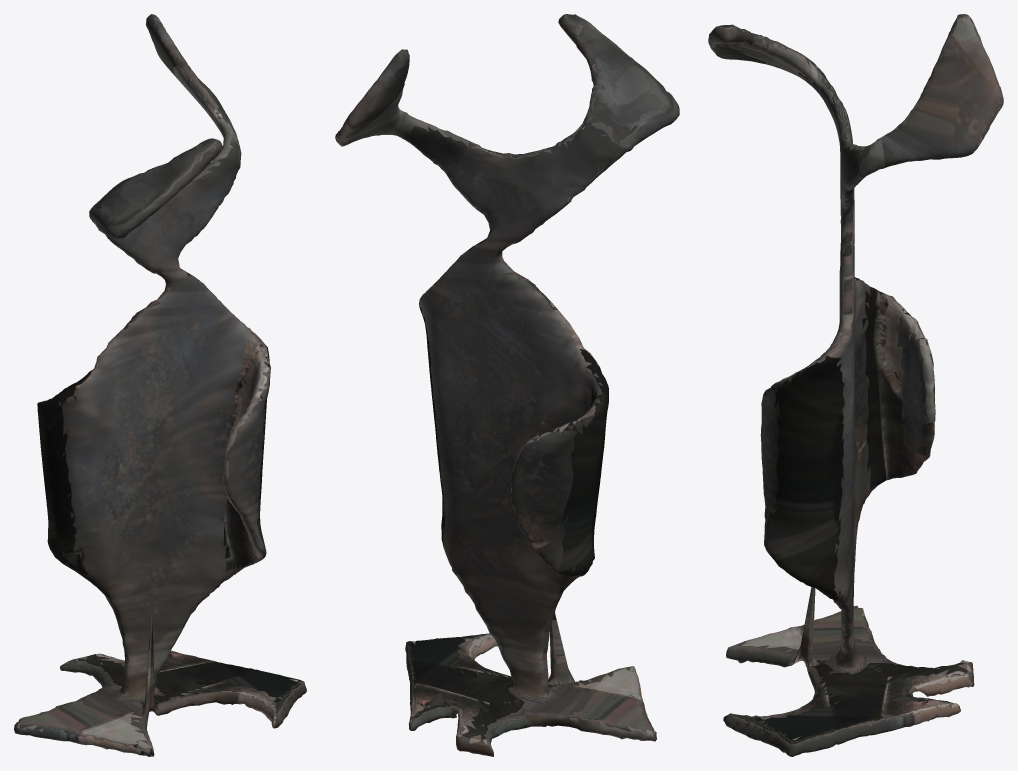
File: hy3d-esc-012.glb
The picture shows the model from 3 angles, left to right: view 1: azimuth 30°, elevation 25°; view 2: azimuth 150°, elevation 25°; view 3: azimuth 270°, elevation 25°; orthographic projection. The views are drawn at different scales.
Visible parts, largest first — view 1: world; view 2: world; view 3: world.
Boxes of the visible parts, x1,y1,x2,y2 form: world: [14, 14, 306, 756]; world: [335, 14, 679, 756]; world: [708, 14, 1003, 756].
Bounding box in the file's own units: 0.5469 × 1.28 × 0.4864.
Materials: 1 (1 with a texture image).
